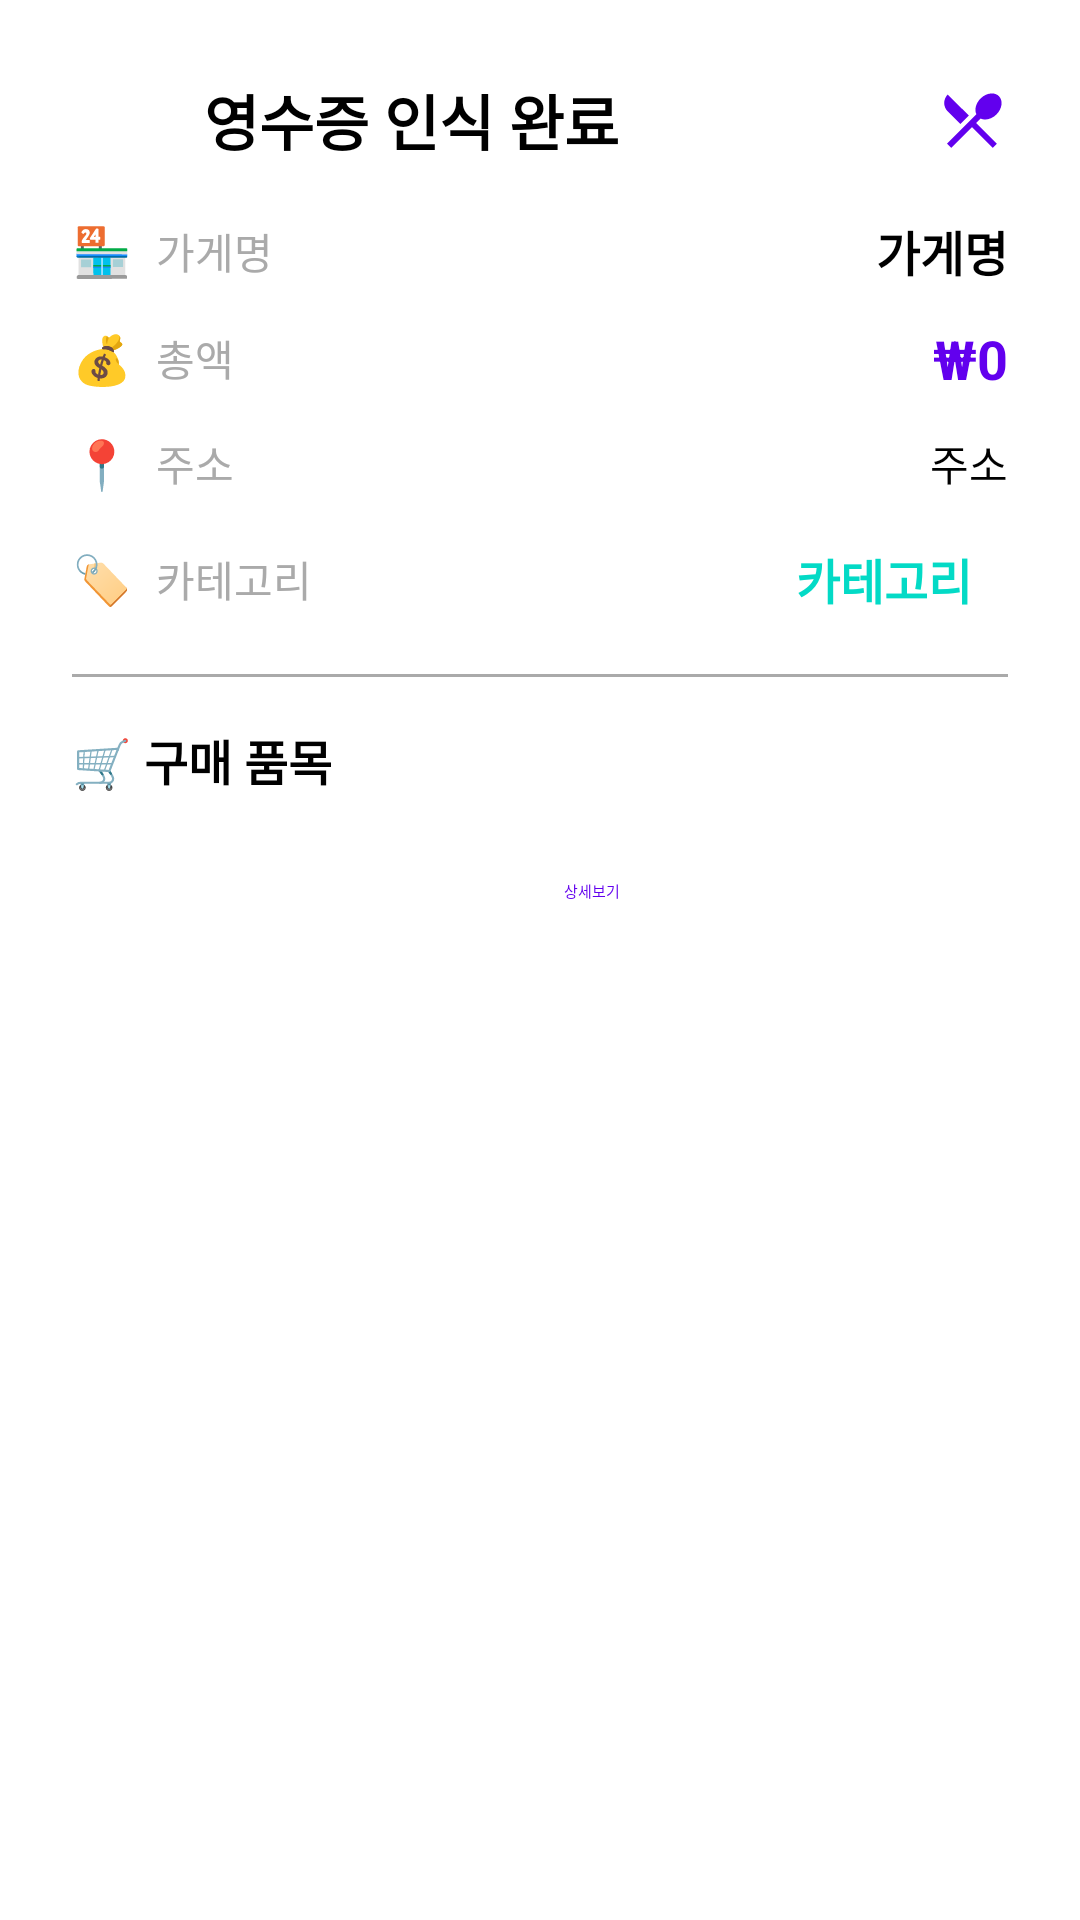

Icon click points for this 1080*1920 phone screenshot, format (x=x, y=y):
food: (x=973, y=120)
